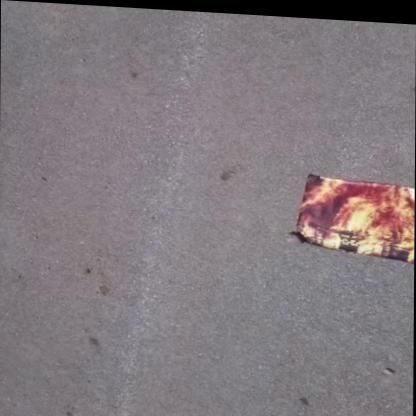fire-poster: (288, 167, 414, 260)
